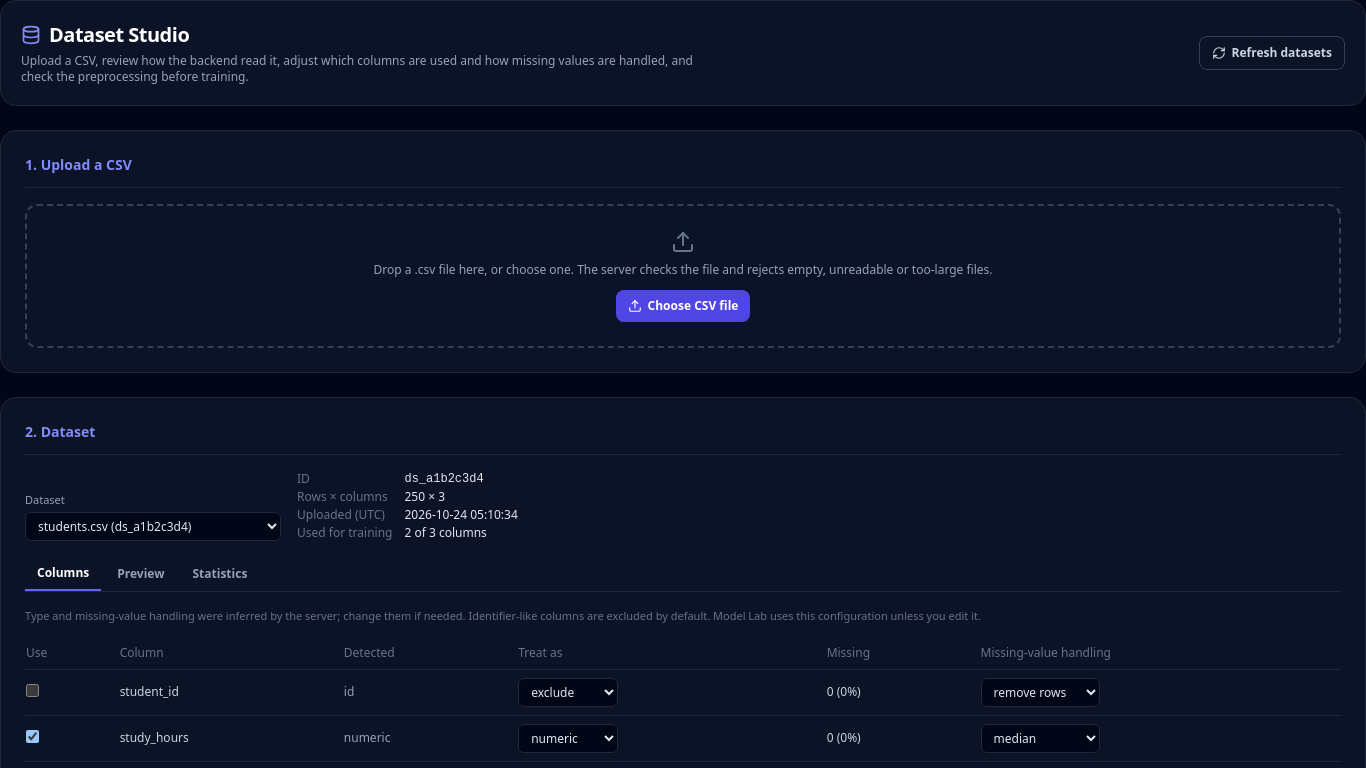
Test: DatasetStudio: datasets › says when no preview is available instead of inventing rows
This screenshot has width=1366, height=768.
Step 1. Click the tab "Preview" → (141, 574), box [105,557,176,591]
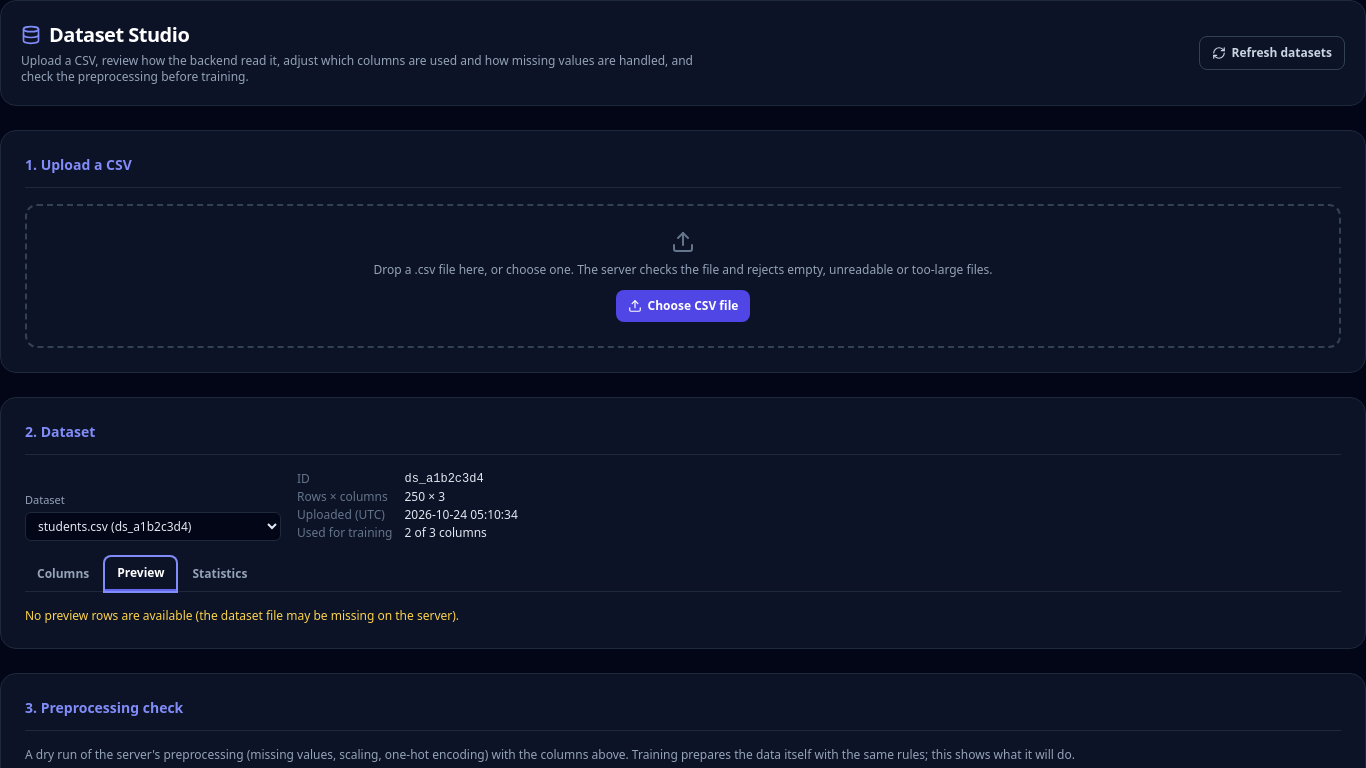
Check: the text with test id "no-preview" is shown, box [25,607,459,624]
